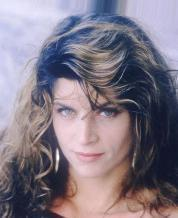face: (55, 100, 117, 160)
